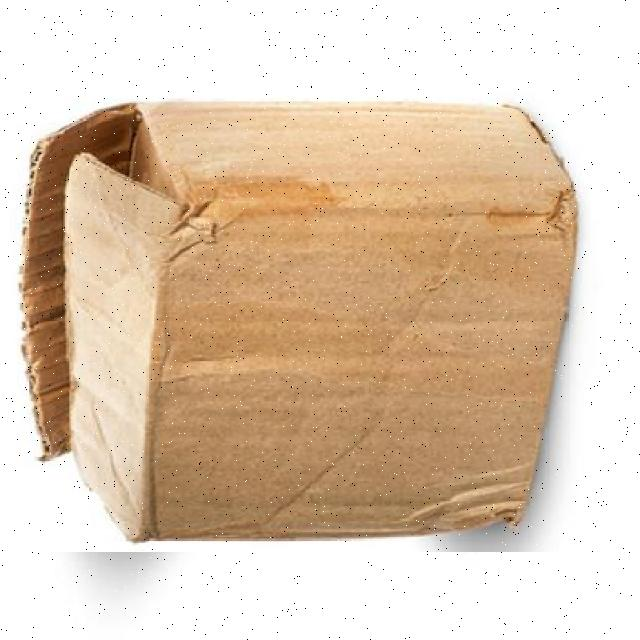defect: (17, 92, 591, 552)
